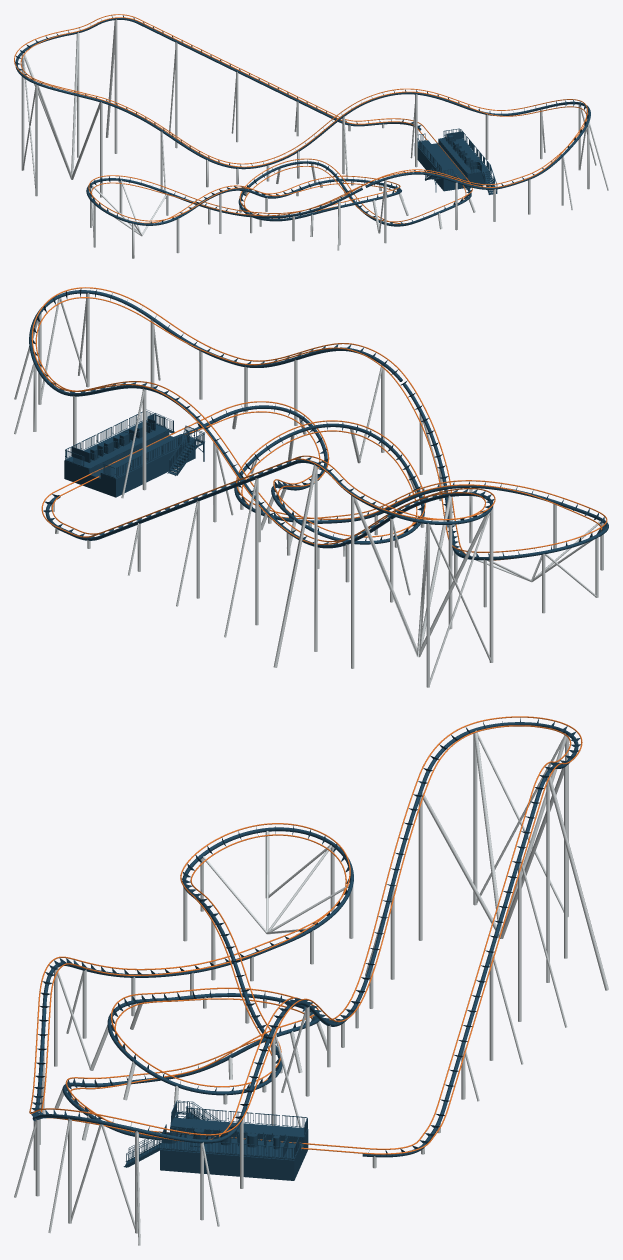
File: lightning.glb
3 renders of one model, top to bottom at view 1: azimuth 30°, elevation 25°; view 2: azimuth 150°, elevation 25°; view 3: azimuth 270°, elevation 25°, orthographic. The views are drawn at different scales.
Parts seen in each view (by area): view 1: ASSEMBLY_STATIC; view 2: ASSEMBLY_STATIC; view 3: ASSEMBLY_STATIC.
Boxes of the visible parts, <box> form: ASSEMBLY_STATIC: <box>14,14,608,258</box>; ASSEMBLY_STATIC: <box>14,287,608,687</box>; ASSEMBLY_STATIC: <box>14,716,608,1245</box>.
Size of the model in its own units: 68.59 by 19.91 by 49.42.
